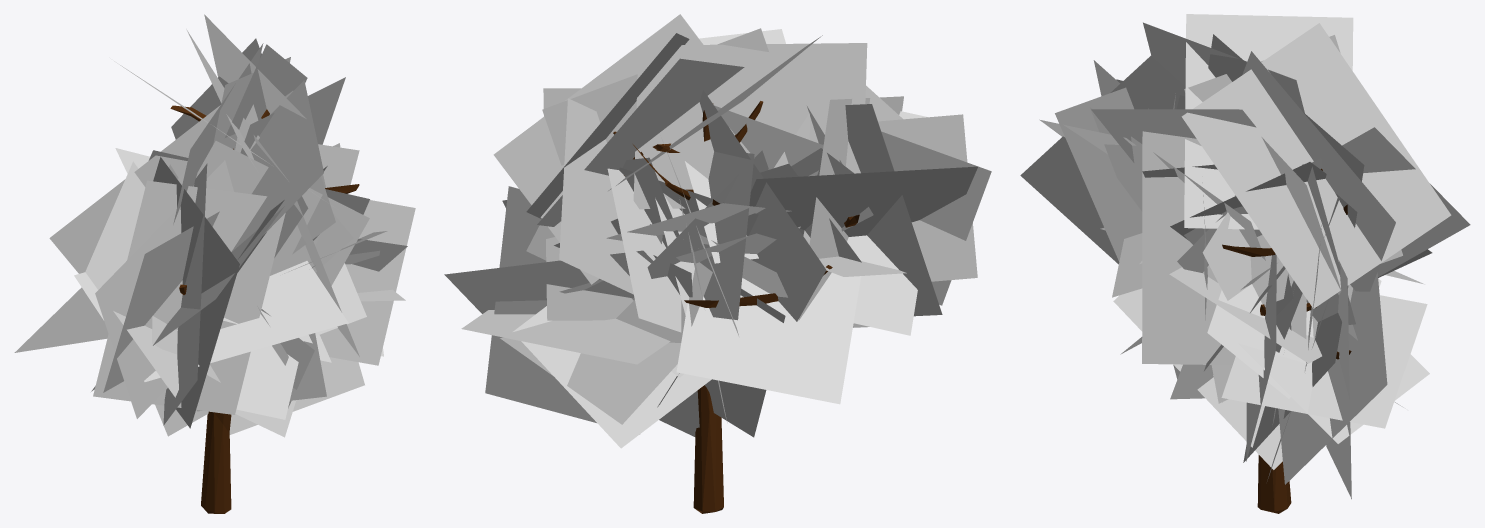
The model's file is Tree.fbx.
3 views of the same model, side by side, from view 1: azimuth 30°, elevation 25°; view 2: azimuth 150°, elevation 25°; view 3: azimuth 270°, elevation 25° (orthographic). The views are drawn at different scales.
Visible parts, largest first — view 1: Plane.047, Cube.015; view 2: Plane.047, Cube.015; view 3: Plane.047, Cube.015.
Boxes of the visible parts, box(x1,y1,x2,y2) form: Plane.047: box(14, 14, 415, 437); Cube.015: box(170, 105, 359, 513); Plane.047: box(444, 14, 991, 448); Cube.015: box(613, 101, 859, 513); Plane.047: box(1020, 14, 1470, 499); Cube.015: box(1222, 168, 1351, 513).
Size of the model in its own units: 78.14 by 88.9 by 73.96.
